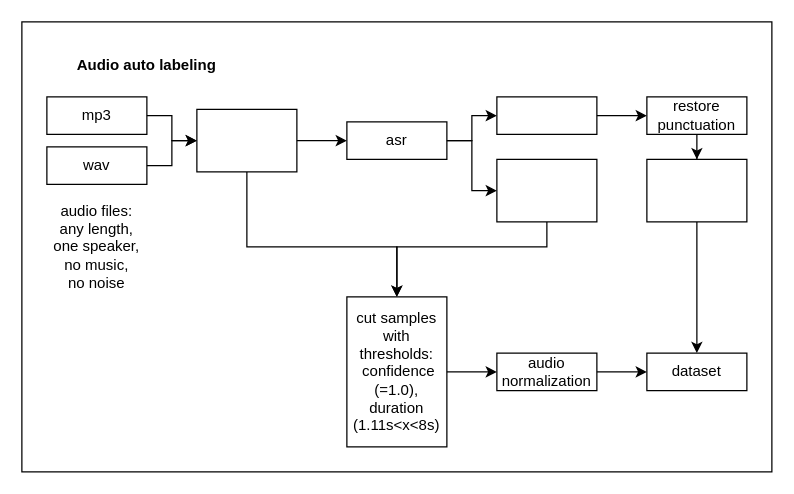
The diagram is 794 pixels wide and 494 high, and some of its shapes have lost their labels. The centre of each missing label's shape, as x and y in pixels:
"confidence start end" belongs at (546,190).
"texts" belongs at (546,115).
"texts with punctuation/ capital letters" belongs at (696,190).
"wav mono 22050Hz" belongs at (246,140).
